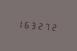one: (17, 18, 23, 29)
seven: (46, 20, 52, 32)
six: (24, 18, 30, 30)
three: (32, 19, 38, 30)
two: (39, 20, 45, 31), (53, 21, 59, 32)
